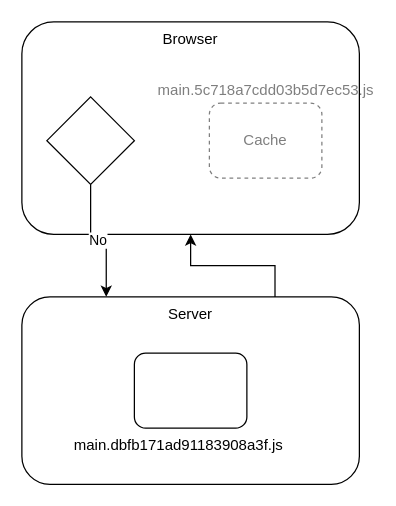
This 396x506 diagram has some shape labels left out. The centre of each missing label's shape, as x and y in pixels:
Have Cache?: pixel 90 140
index.js Changed: pixel 190 390
